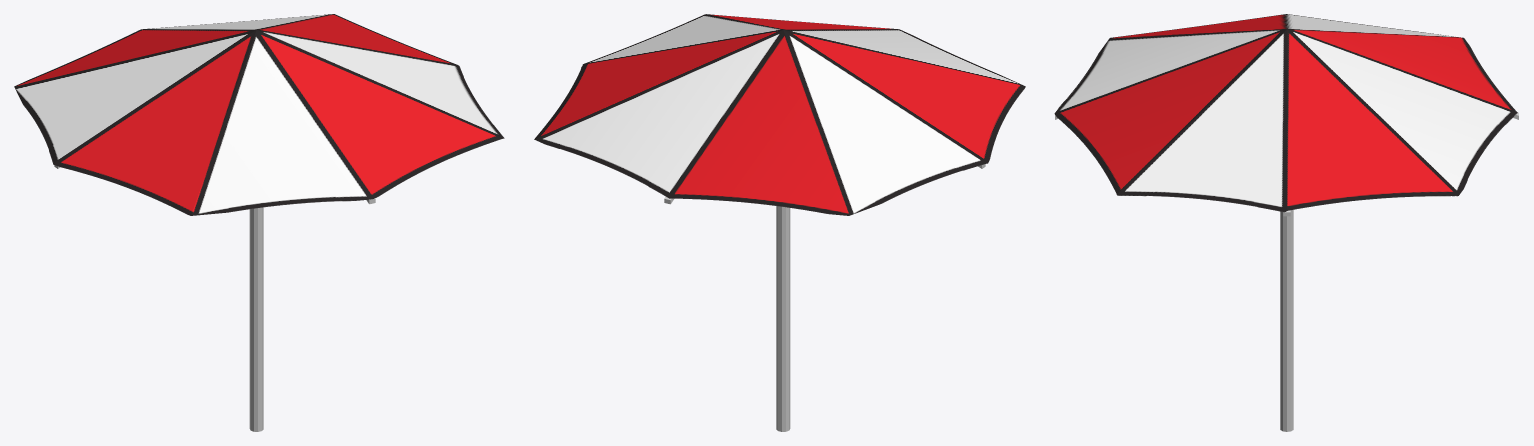
The model's file is sunshade_02.fbx.
The picture shows the model from 3 angles, left to right: view 1: azimuth 30°, elevation 25°; view 2: azimuth 150°, elevation 25°; view 3: azimuth 270°, elevation 25°; orthographic projection.
Visible parts, largest first — view 1: sunshade_2; view 2: sunshade_2; view 3: sunshade_2.
Part boxes in pixels (x1,y1,x2,y2): sunshade_2: (14,14,504,431); sunshade_2: (534,14,1025,431); sunshade_2: (1054,14,1518,431).
Bounding box in the file's own units: 2.07 × 1.94 × 2.05.
2 materials, 1 textured.
